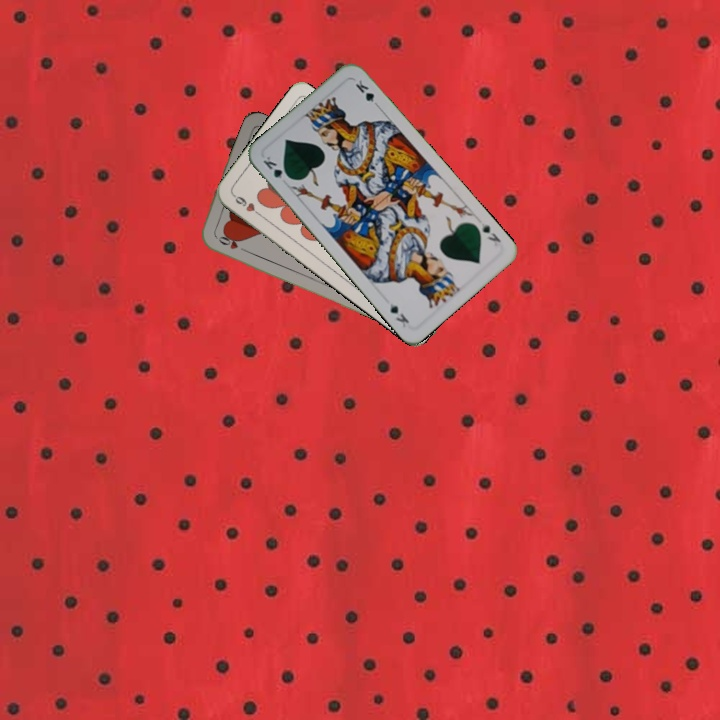GK: (259, 152, 293, 183), (476, 219, 503, 245)
H9: (229, 190, 264, 219)
HO: (211, 231, 250, 255)
